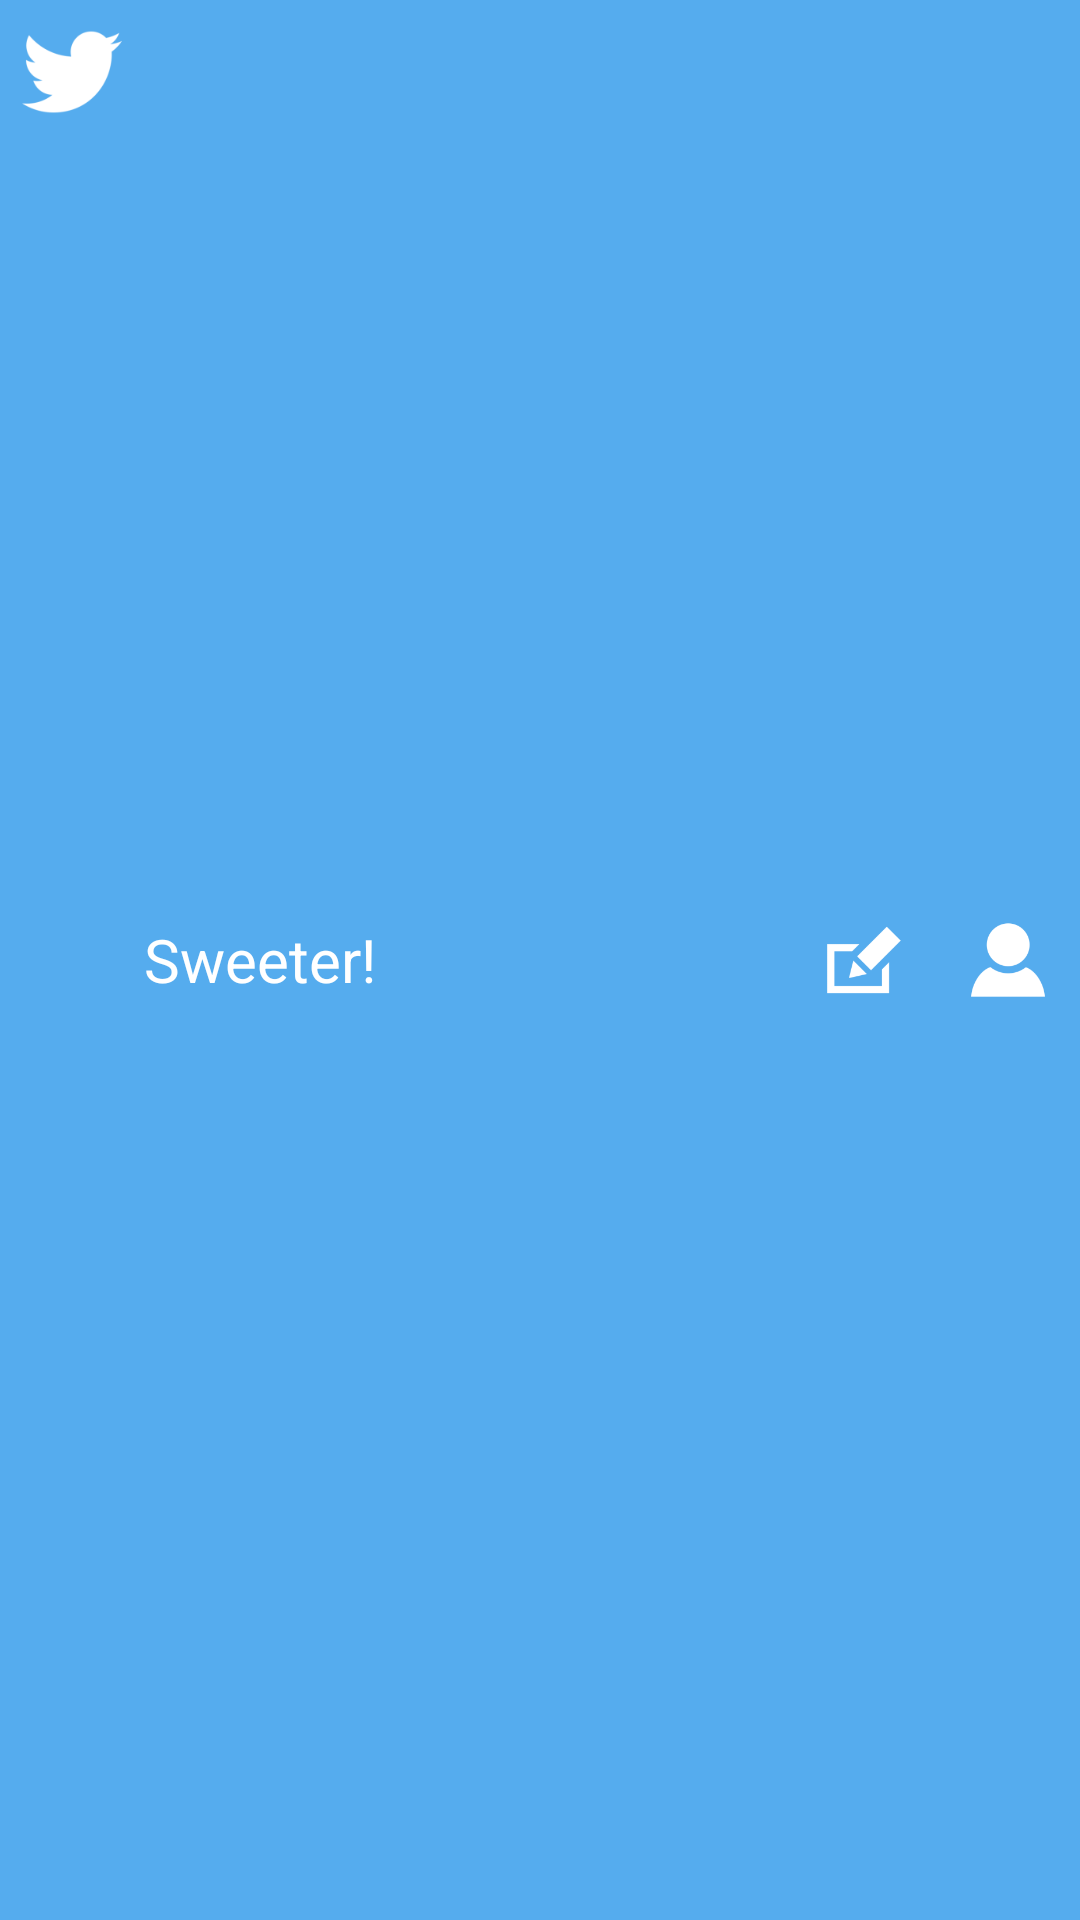

Named icons in this screenshot (1080 x 1920) and their bounding boxes, (x1, y1, x2, y2):
compose: (827, 927, 901, 994)
profile: (971, 923, 1045, 997)
